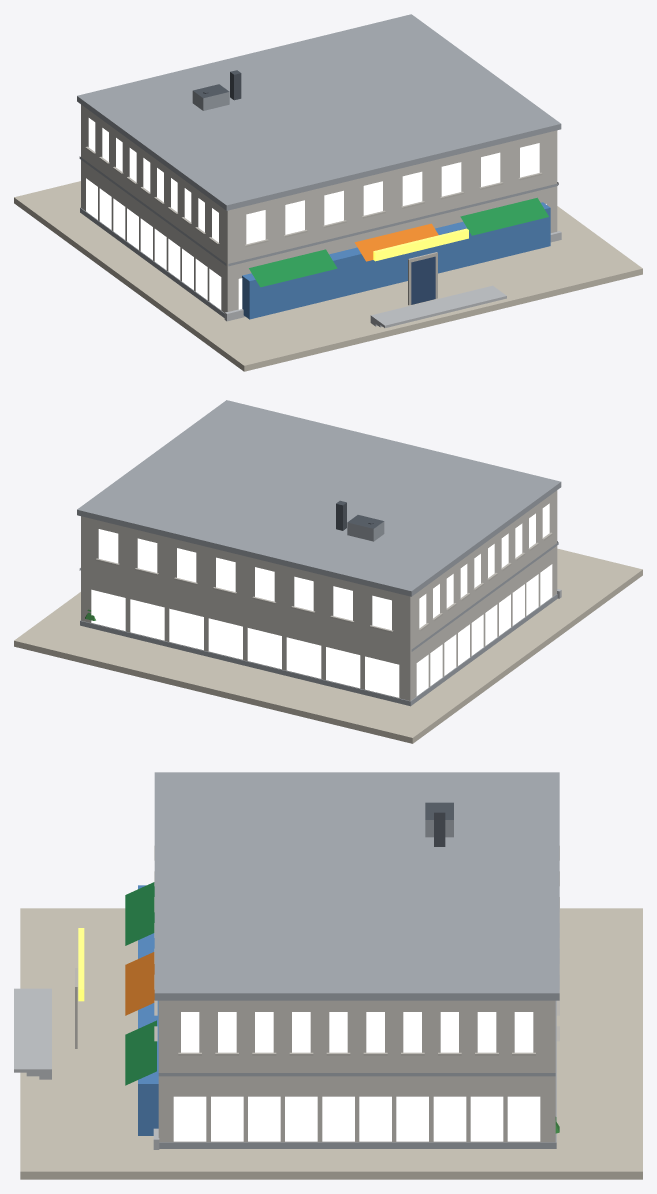
3 renders of one model, top to bottom at view 1: azimuth 30°, elevation 25°; view 2: azimuth 150°, elevation 25°; view 3: azimuth 270°, elevation 25°, orthographic. The views are drawn at different scales.
Visible parts, largest first — view 1: b15_x2; view 2: b15_x2; view 3: b15_x2.
Part boxes in pixels (bbox=[...]): b15_x2: bbox=[14, 14, 642, 371]; b15_x2: bbox=[14, 400, 642, 743]; b15_x2: bbox=[14, 772, 642, 1179].
Bounding box in the file's own units: 1.96 × 0.705 × 1.98.
